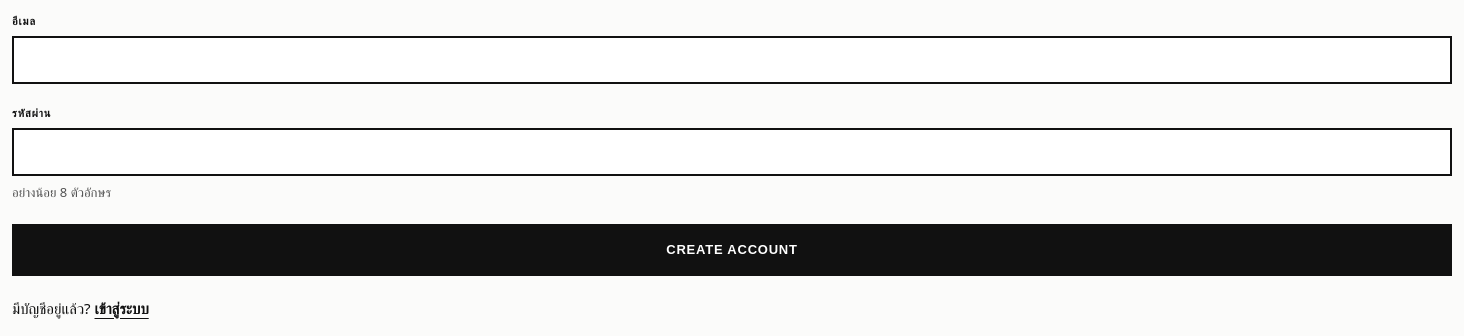
SignupForm › tells the user to check their inbox when a confirmation was sent
Type "a@b.co" into the field labelled "อีเมล" at (732, 60), box x1=12 y1=36 x2=1452 y2=84
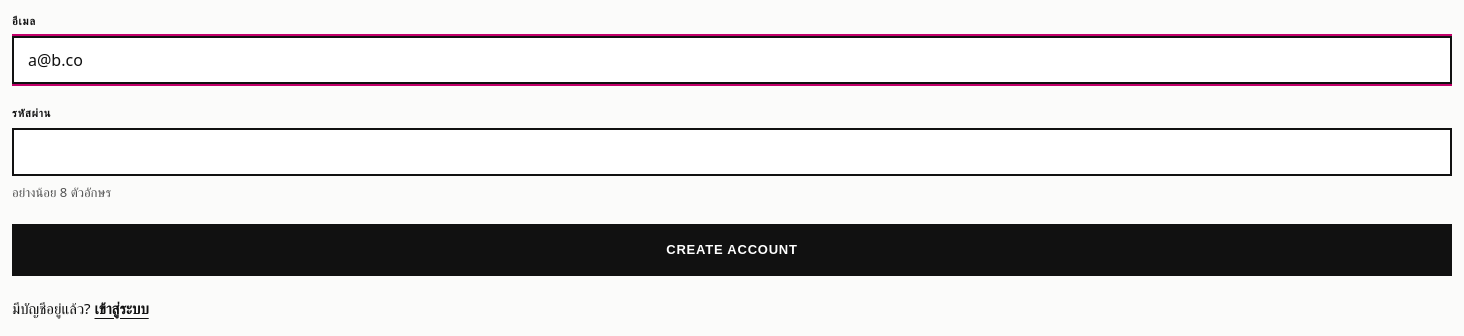
Type "abcdefgh" into the password field labelled "รหัสผ่าน" at (732, 152), box x1=12 y1=128 x2=1452 y2=176
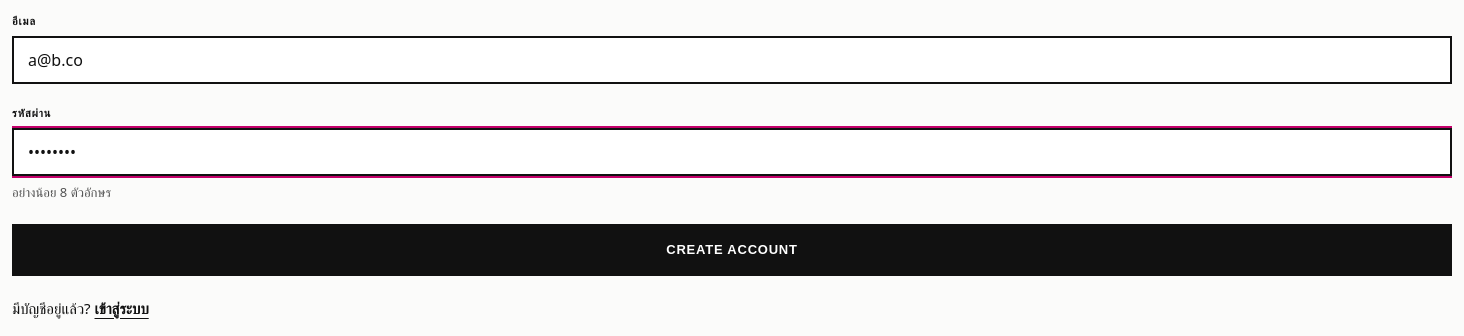
Click the button "CREATE ACCOUNT" at (732, 250), box x1=12 y1=224 x2=1452 y2=276
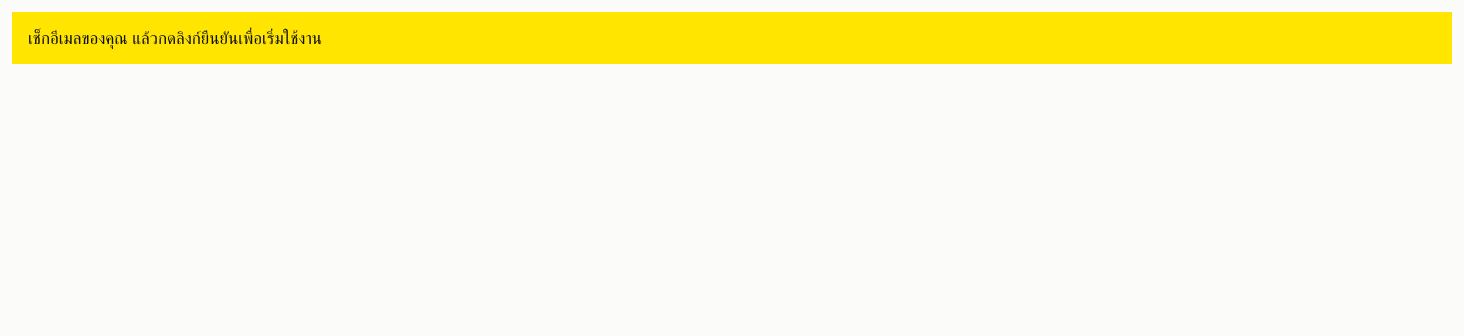
Result: the message shows "เช็กอีเมล" at x1=28 y1=26 x2=322 y2=49
